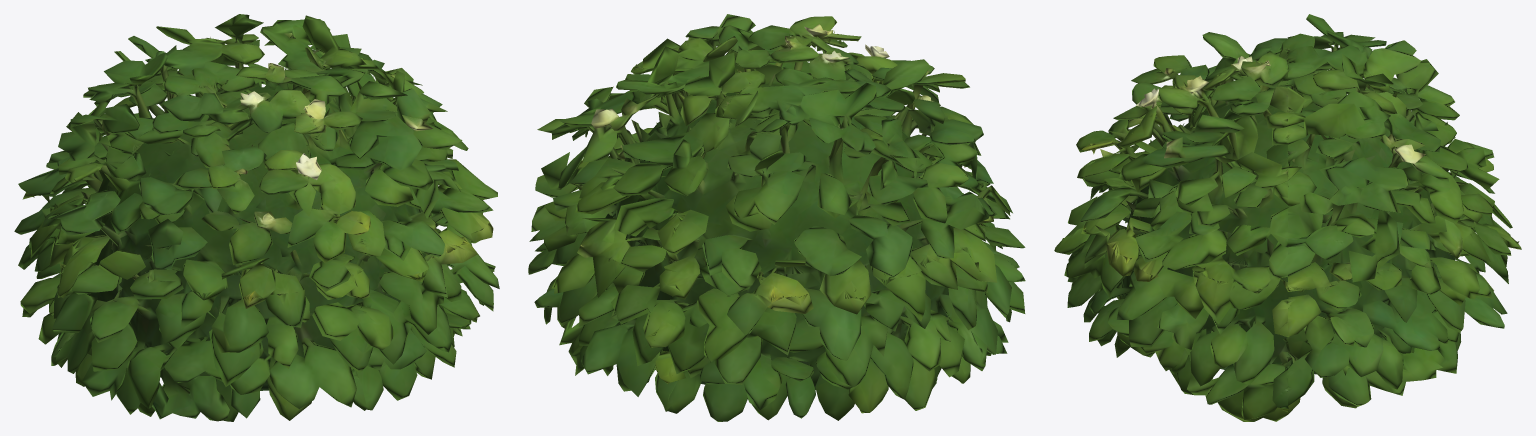
File: bush.glb
3 views of the same model, side by side, from view 1: azimuth 30°, elevation 25°; view 2: azimuth 150°, elevation 25°; view 3: azimuth 270°, elevation 25° (orthographic). The views are drawn at different scales.
Parts seen in each view (by area): view 1: tripo_node_ce6b6865-b9c0-4ea4-880a-a9eaab4cdfd5; view 2: tripo_node_ce6b6865-b9c0-4ea4-880a-a9eaab4cdfd5; view 3: tripo_node_ce6b6865-b9c0-4ea4-880a-a9eaab4cdfd5.
Part boxes in pixels (bbox=[...]): tripo_node_ce6b6865-b9c0-4ea4-880a-a9eaab4cdfd5: bbox=[14, 14, 499, 421]; tripo_node_ce6b6865-b9c0-4ea4-880a-a9eaab4cdfd5: bbox=[528, 14, 1025, 421]; tripo_node_ce6b6865-b9c0-4ea4-880a-a9eaab4cdfd5: bbox=[1054, 14, 1521, 421].
Size of the model in its own units: 1.3 by 0.95 by 1.3.
Materials: 1 (1 with a texture image).
